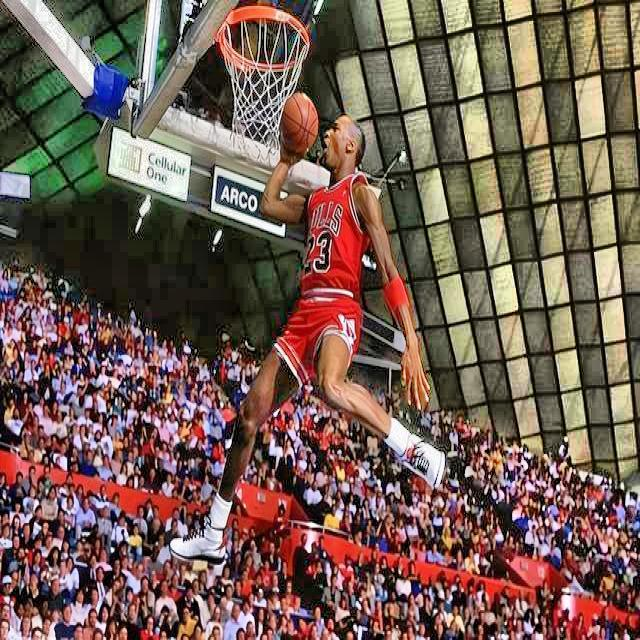board: (281, 95, 318, 152)
rim: (219, 5, 310, 164)
